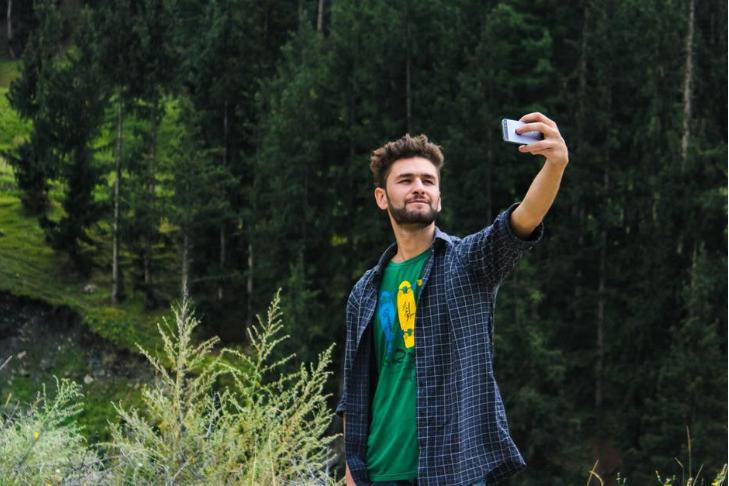face: (389, 158, 439, 225)
